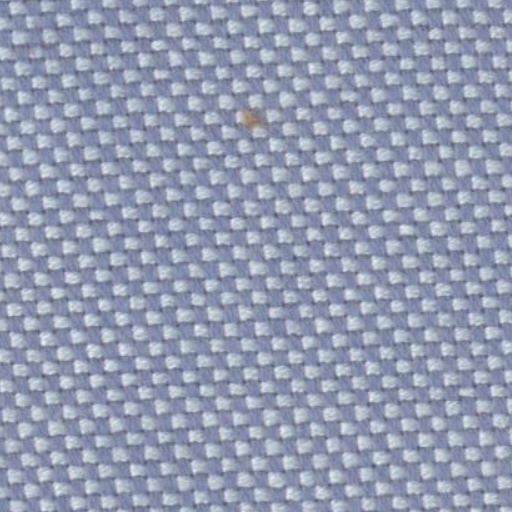WuZi: (220, 86, 284, 146)
